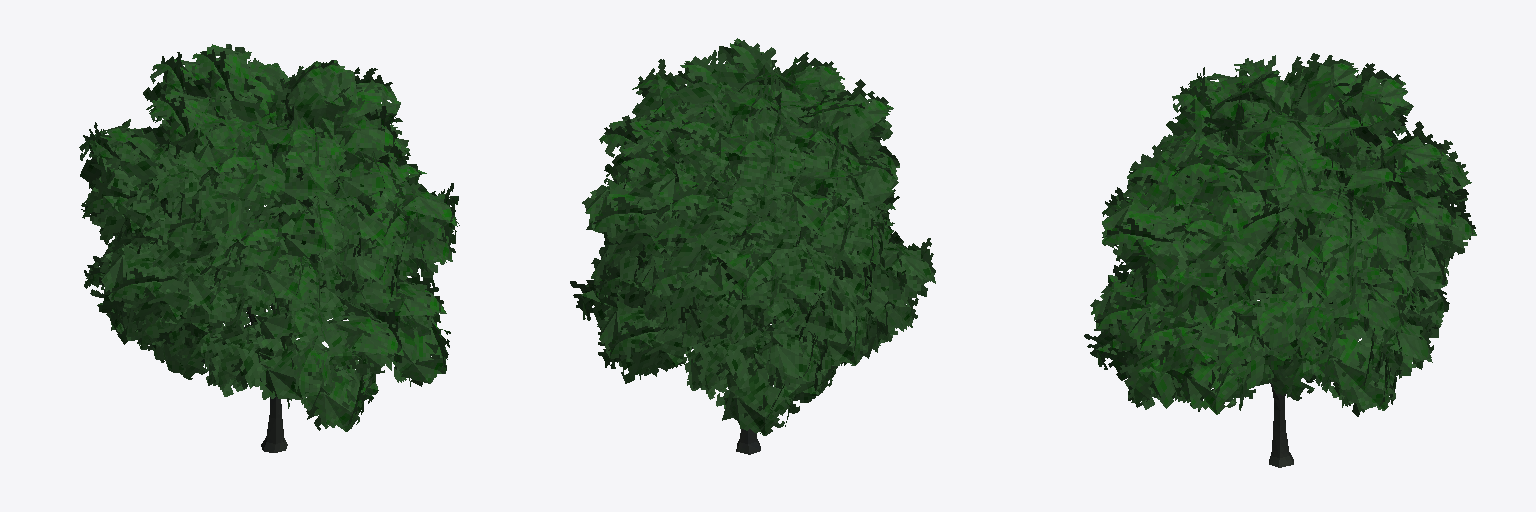
The picture shows the model from 3 angles: view 1: azimuth 30°, elevation 25°; view 2: azimuth 150°, elevation 25°; view 3: azimuth 270°, elevation 25°; orthographic projection.
Parts seen in each view (by area): view 1: AM113_062_Tilia; view 2: AM113_062_Tilia; view 3: AM113_062_Tilia.
Part boxes in pixels (x1,y1,x2,y2): AM113_062_Tilia: (79, 44, 459, 452); AM113_062_Tilia: (570, 38, 935, 454); AM113_062_Tilia: (1084, 53, 1476, 467).
Bounding box in the file's own units: 399 × 470 × 428.
Materials: 1 (1 with a texture image).